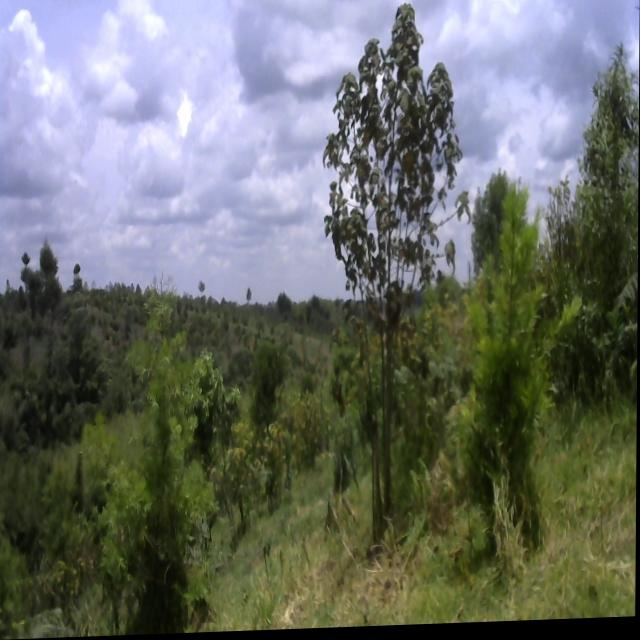Lemon Myrtle: (187, 346, 242, 468)
Podocarpus falcatus: (462, 185, 554, 591), (112, 268, 207, 630)
other: (314, 0, 462, 588)
